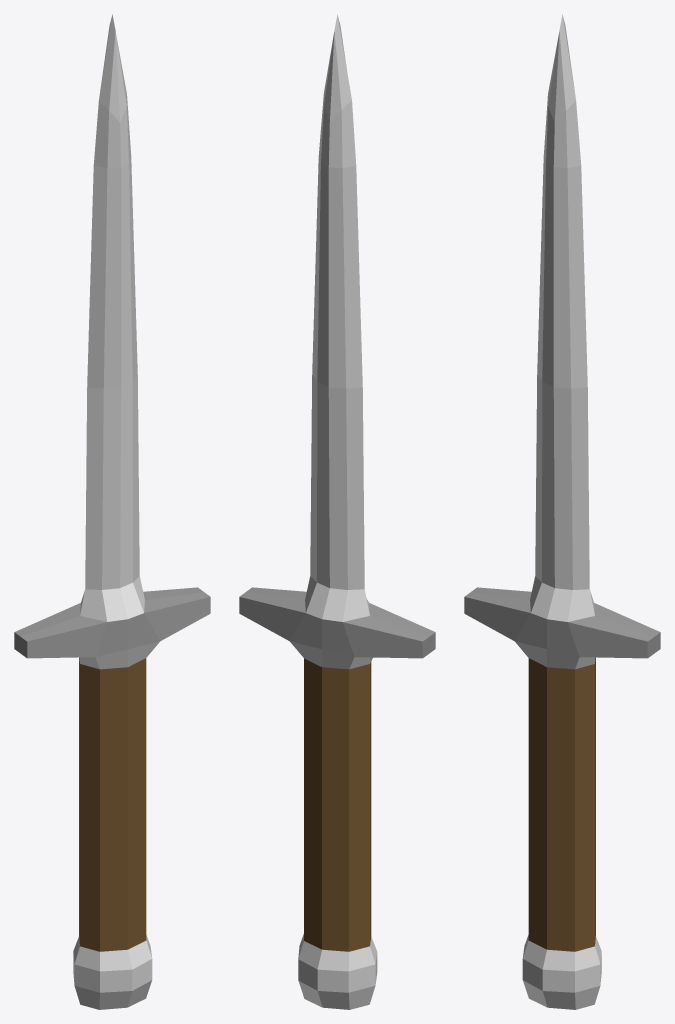
File: Dagger.fbx
The picture shows the model from 3 angles, left to right: view 1: azimuth 30°, elevation 25°; view 2: azimuth 150°, elevation 25°; view 3: azimuth 330°, elevation 25°; orthographic projection.
Parts seen in each view (by area): view 1: Dagger; view 2: Dagger; view 3: Dagger.
Part boxes in pixels (x1,y1,x2,y2): Dagger: (14, 14, 210, 1009); Dagger: (239, 14, 435, 1009); Dagger: (464, 14, 660, 1009).
Size of the model in its own units: 13.52 by 69.21 by 5.07.
